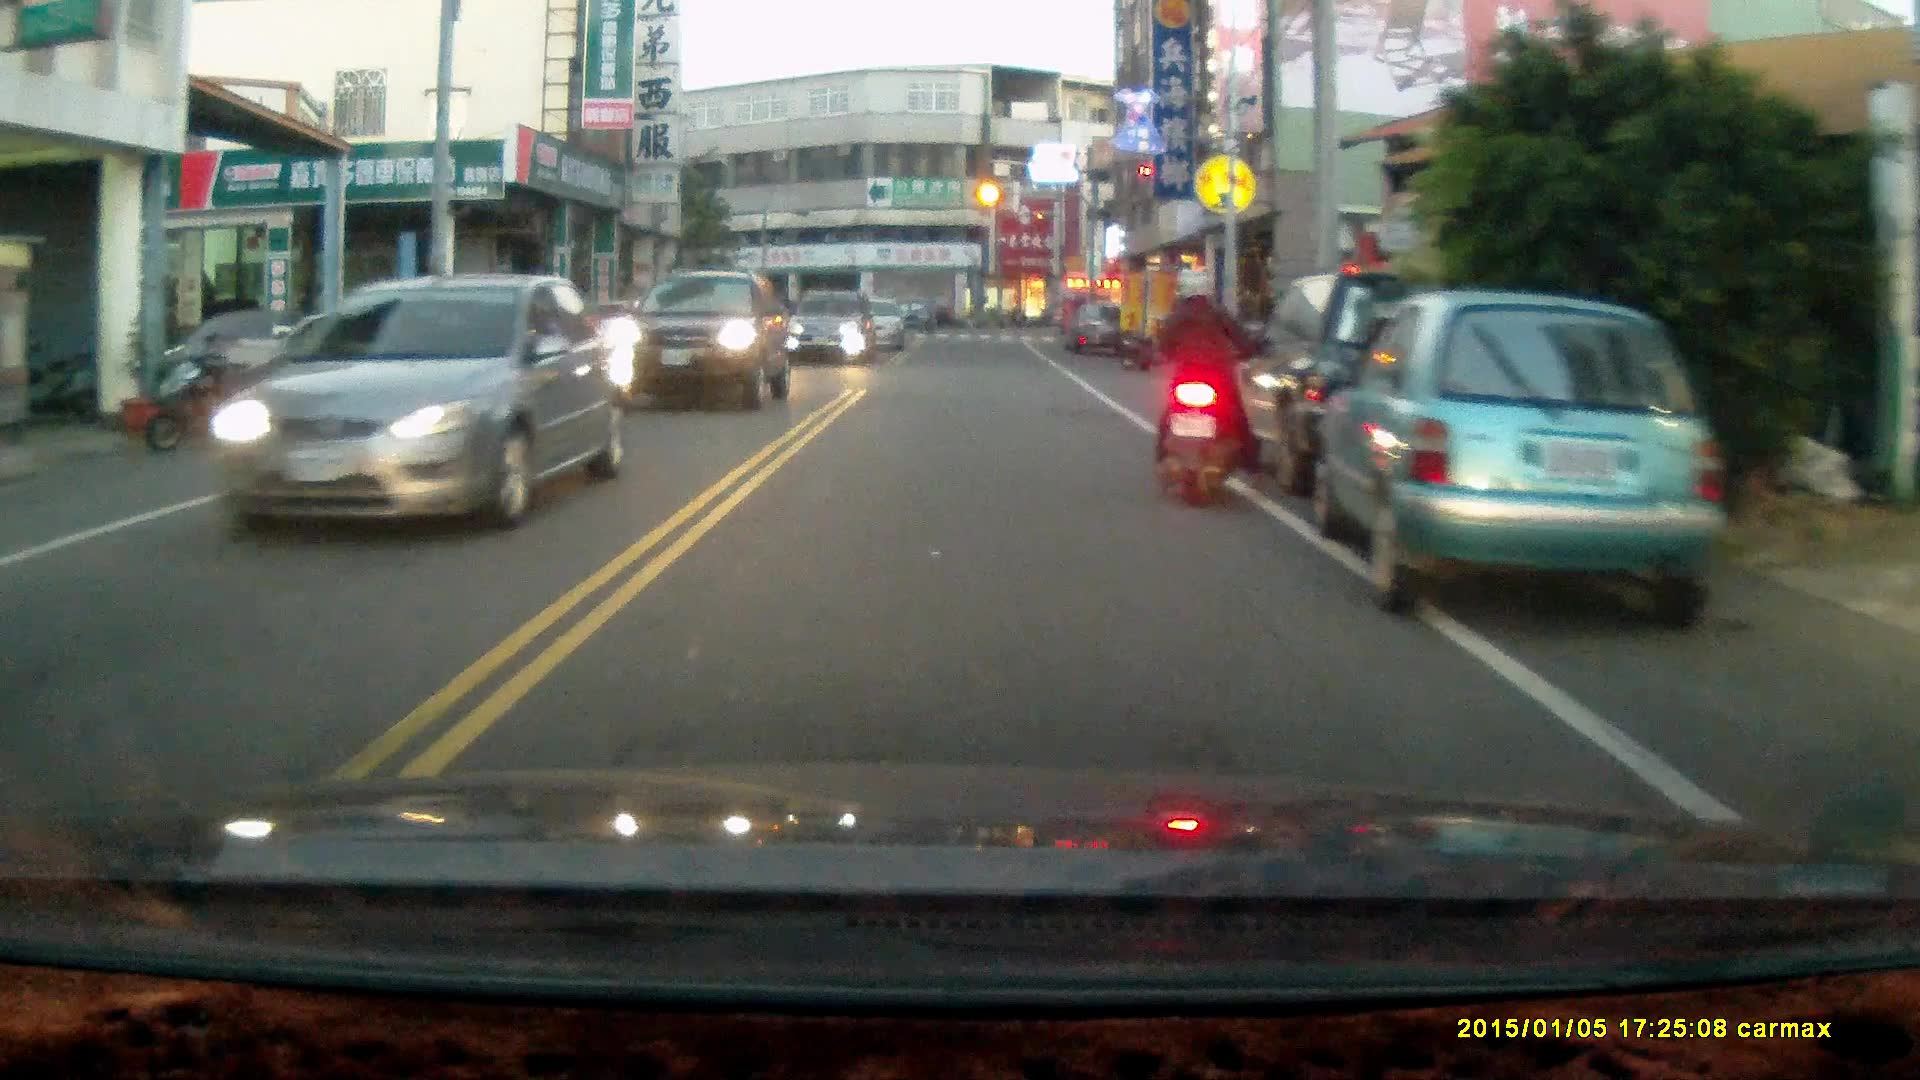rider: (1150, 267, 1259, 507)
vehicle: (1313, 291, 1733, 631), (210, 273, 625, 537), (1200, 269, 1543, 498), (614, 269, 798, 413), (245, 308, 463, 429), (784, 292, 880, 365), (1063, 298, 1132, 355)
